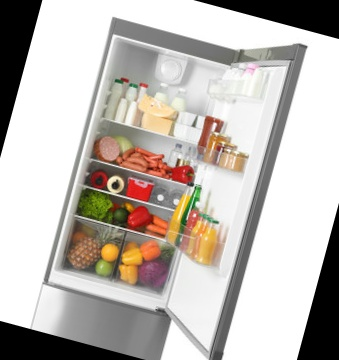Pineapple: (68, 221, 120, 273)
